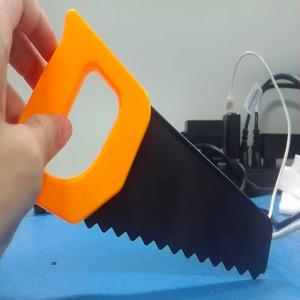serrote: (42, 9, 273, 280)
